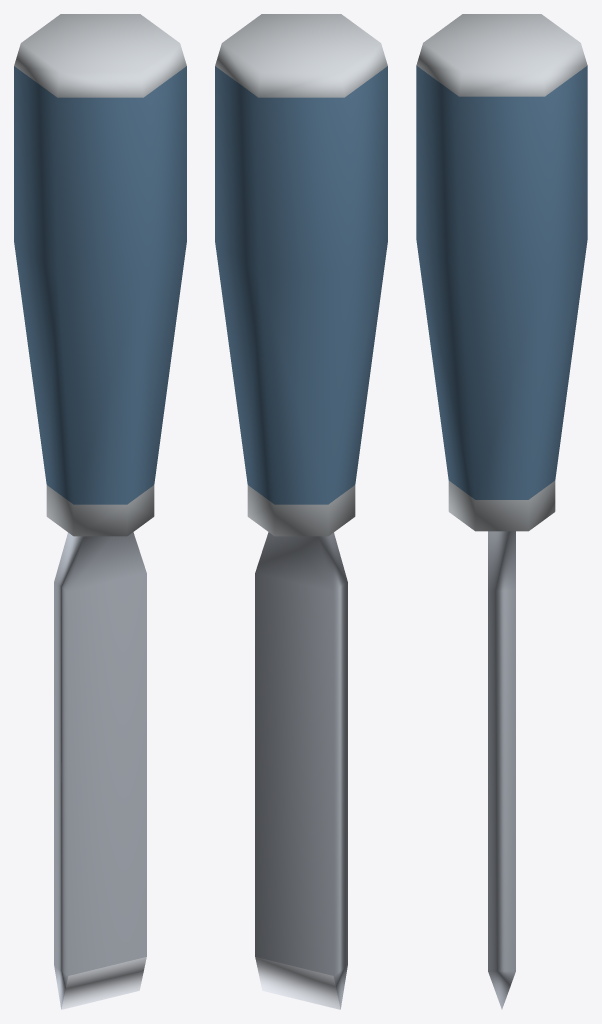
The model's file is SM_Prop_Chisel_Smooth_01.obj.
The picture shows the model from 3 angles, left to right: view 1: azimuth 30°, elevation 25°; view 2: azimuth 150°, elevation 25°; view 3: azimuth 270°, elevation 25°; orthographic projection.
Parts seen in each view (by area): view 1: SM_Prop_Chisel_Smooth_01_Mat_SwatchOverlay_PolygonTown_01_Inst; view 2: SM_Prop_Chisel_Smooth_01_Mat_SwatchOverlay_PolygonTown_01_Inst; view 3: SM_Prop_Chisel_Smooth_01_Mat_SwatchOverlay_PolygonTown_01_Inst.
Part boxes in pixels (x1,y1,x2,y2): SM_Prop_Chisel_Smooth_01_Mat_SwatchOverlay_PolygonTown_01_Inst: (14, 14, 186, 1009); SM_Prop_Chisel_Smooth_01_Mat_SwatchOverlay_PolygonTown_01_Inst: (215, 14, 387, 1009); SM_Prop_Chisel_Smooth_01_Mat_SwatchOverlay_PolygonTown_01_Inst: (416, 14, 587, 1009).
Bounding box in the file's own units: 0.0766 × 0.5406 × 0.0885.
Materials: 1 (1 with a texture image).
